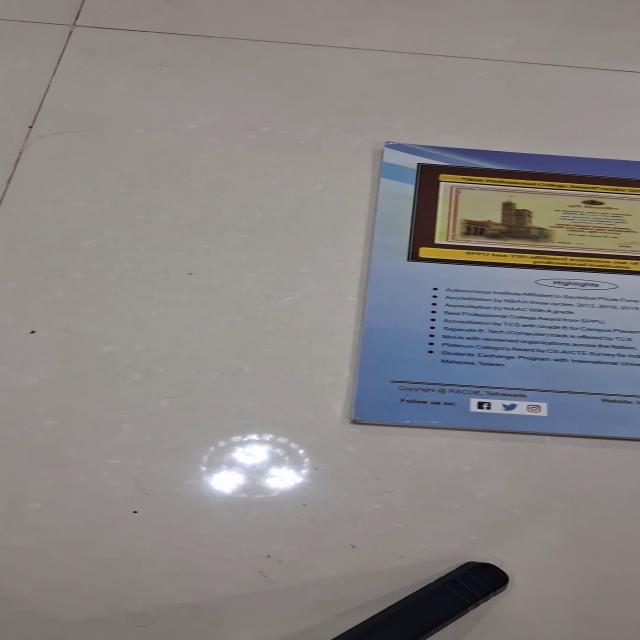paper: (348, 141, 639, 440)
